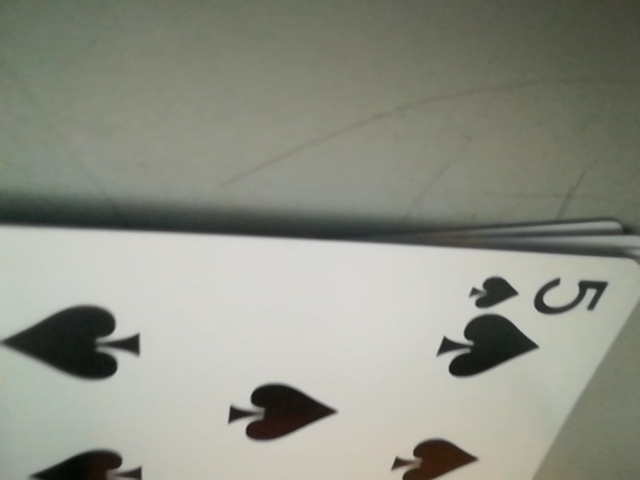ht 5: (460, 264, 615, 316)
